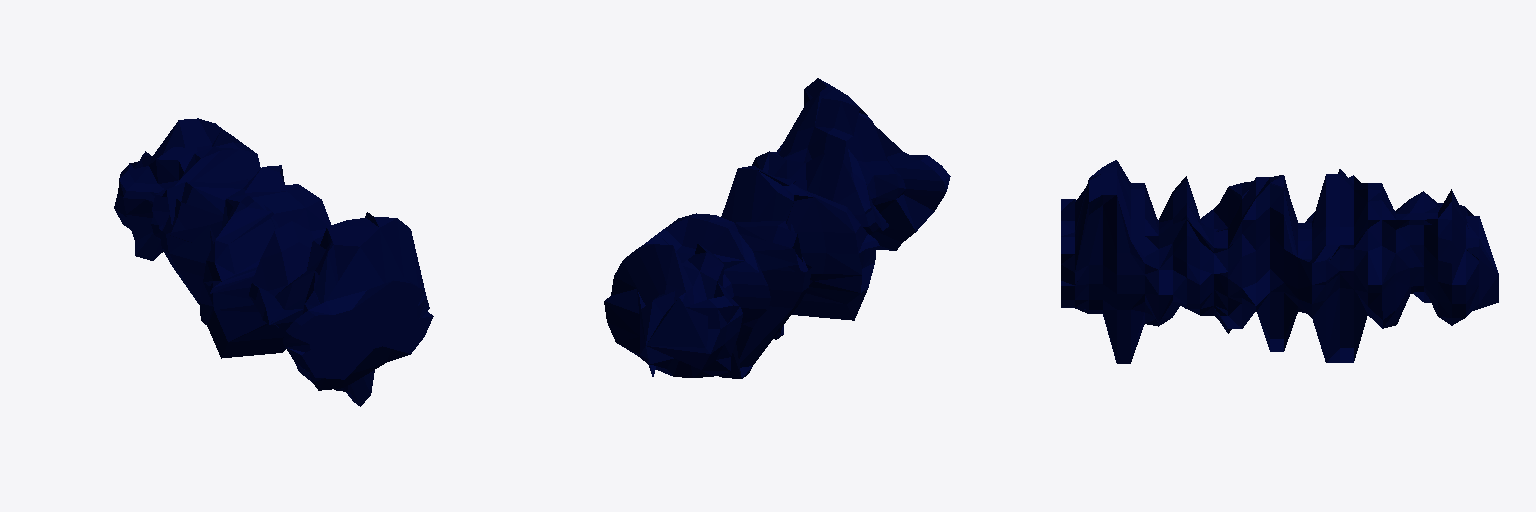
Rendered from Bullet3.obj.
3 views of the same model, side by side, from view 1: azimuth 30°, elevation 25°; view 2: azimuth 150°, elevation 25°; view 3: azimuth 270°, elevation 25° (orthographic).
Visible parts, largest first — view 1: pCylinder1; view 2: pCylinder1; view 3: pCylinder1.
Part boxes in pixels (x1,y1,x2,y2): pCylinder1: (114,118,433,406); pCylinder1: (604,78,950,378); pCylinder1: (1061,160,1498,363).
Size of the model in its own units: 2.53 by 2.95 by 6.05.